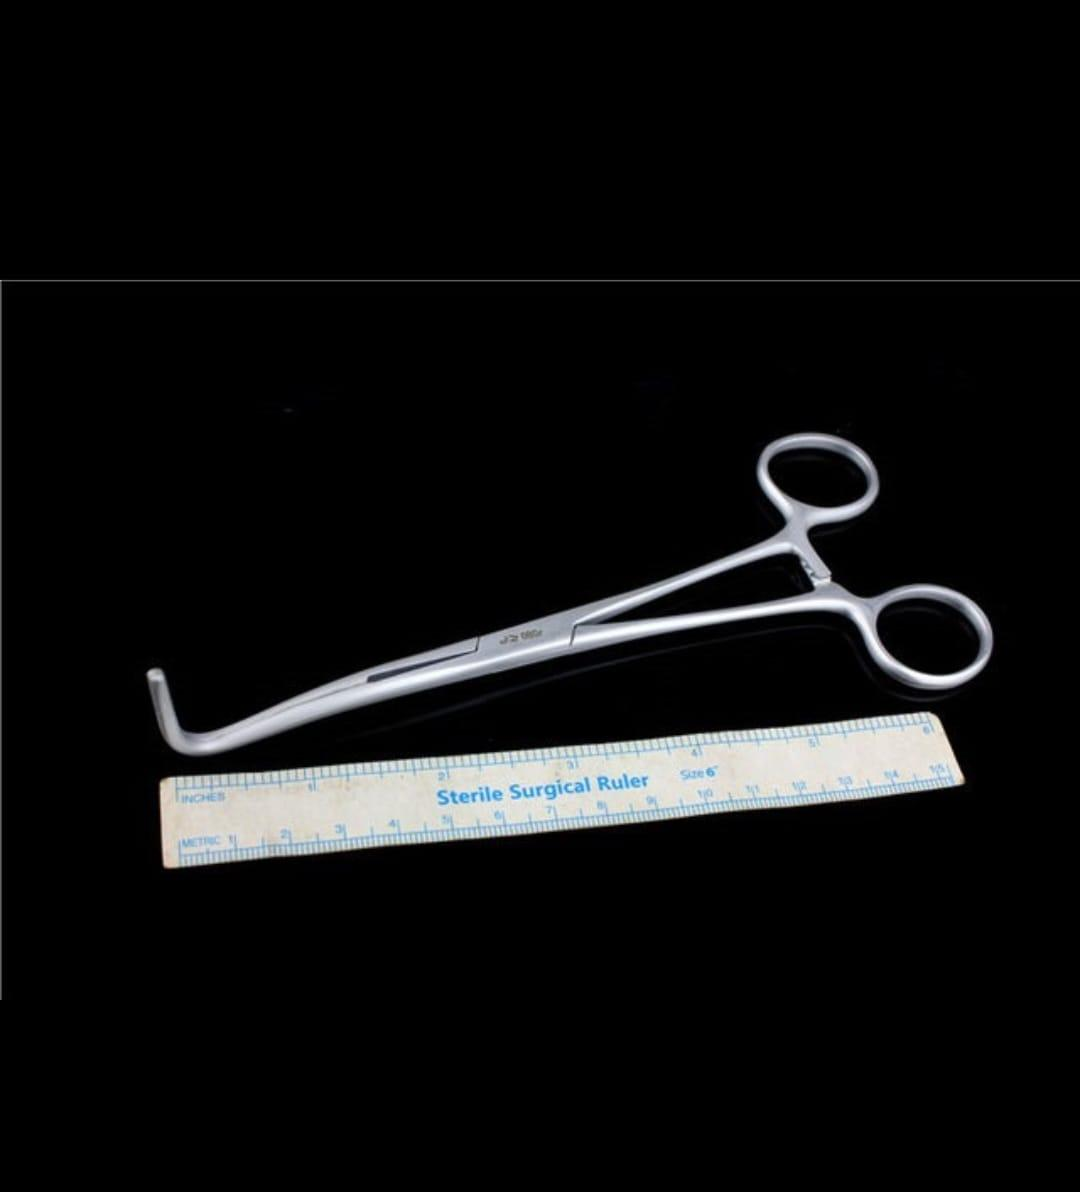Rectangle Cholecystectomy Forceps: (144, 424, 996, 762)
